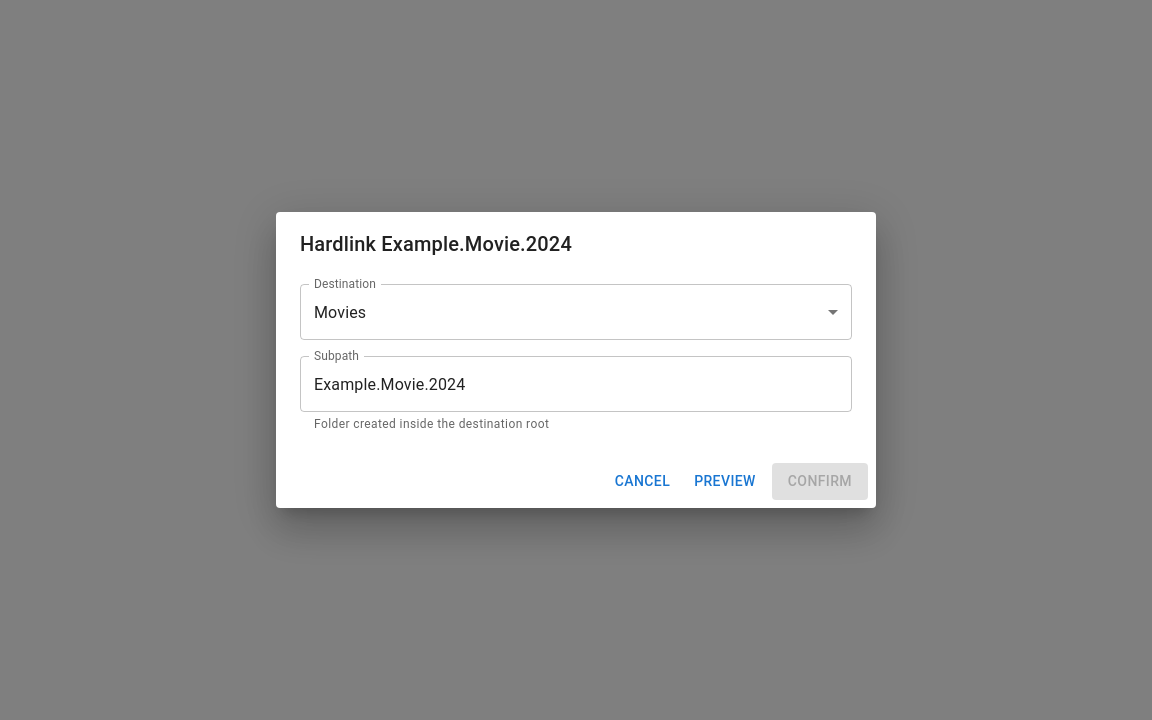
Test case: editing subpath after preview requires a new preview
Step 1. Click the button "Preview" → (725, 481), box [686,463,764,500]
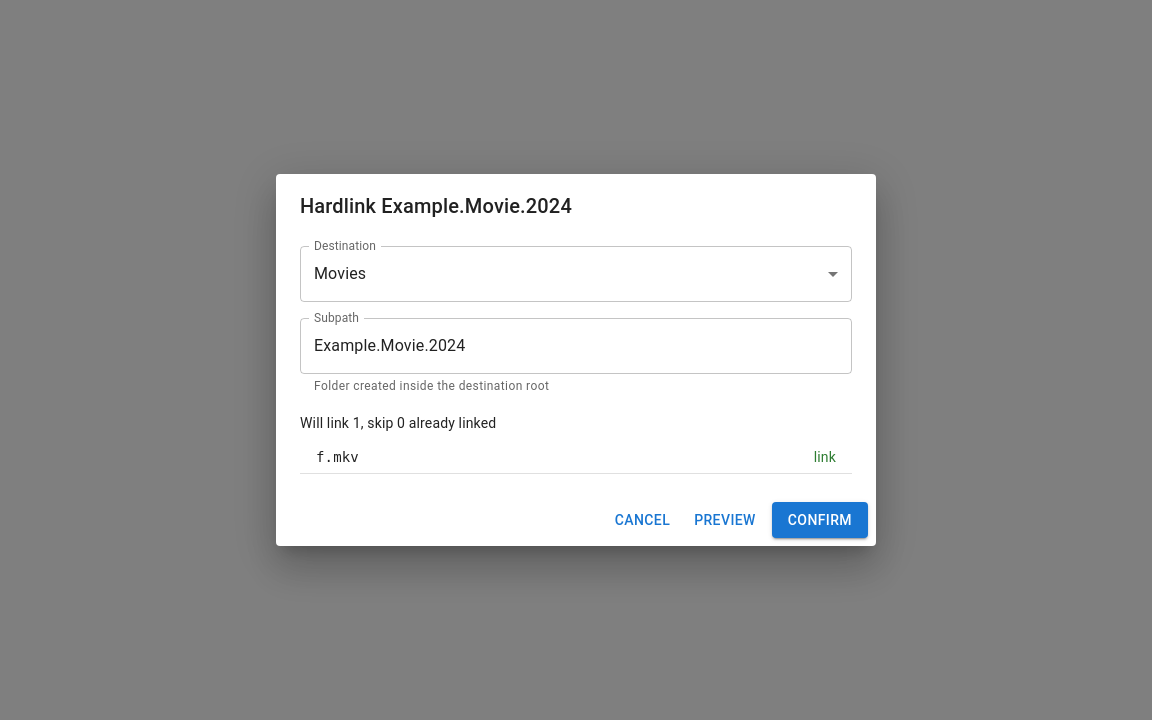
Now the button "Confirm" is enabled, box [772,502,868,538]
Step 2. Type "-edited" into the field labelled "Subpath" → (576, 346), box [300,318,852,374]
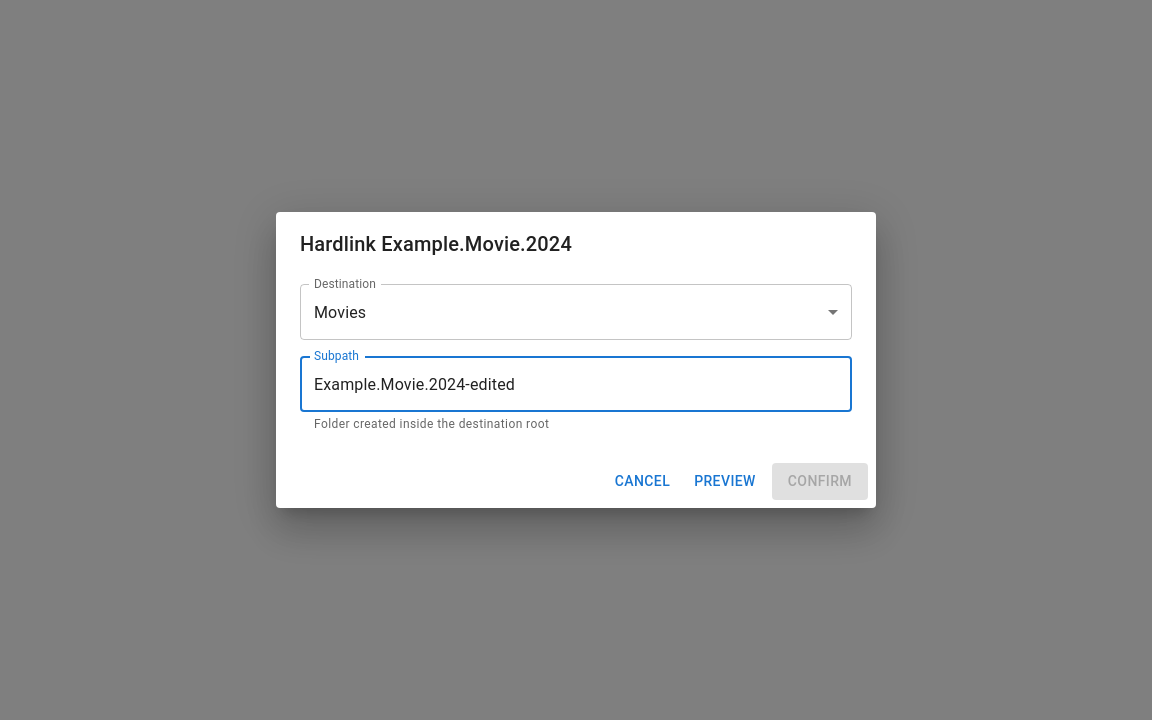
Now the button "Confirm" is disabled, box [772,463,868,500]
